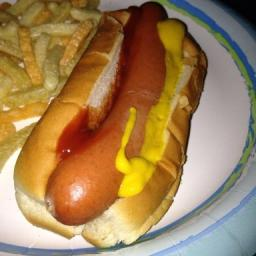hotdog: (129, 4, 170, 115), (50, 137, 144, 182), (46, 179, 118, 234), (109, 96, 152, 172), (98, 114, 151, 149)
